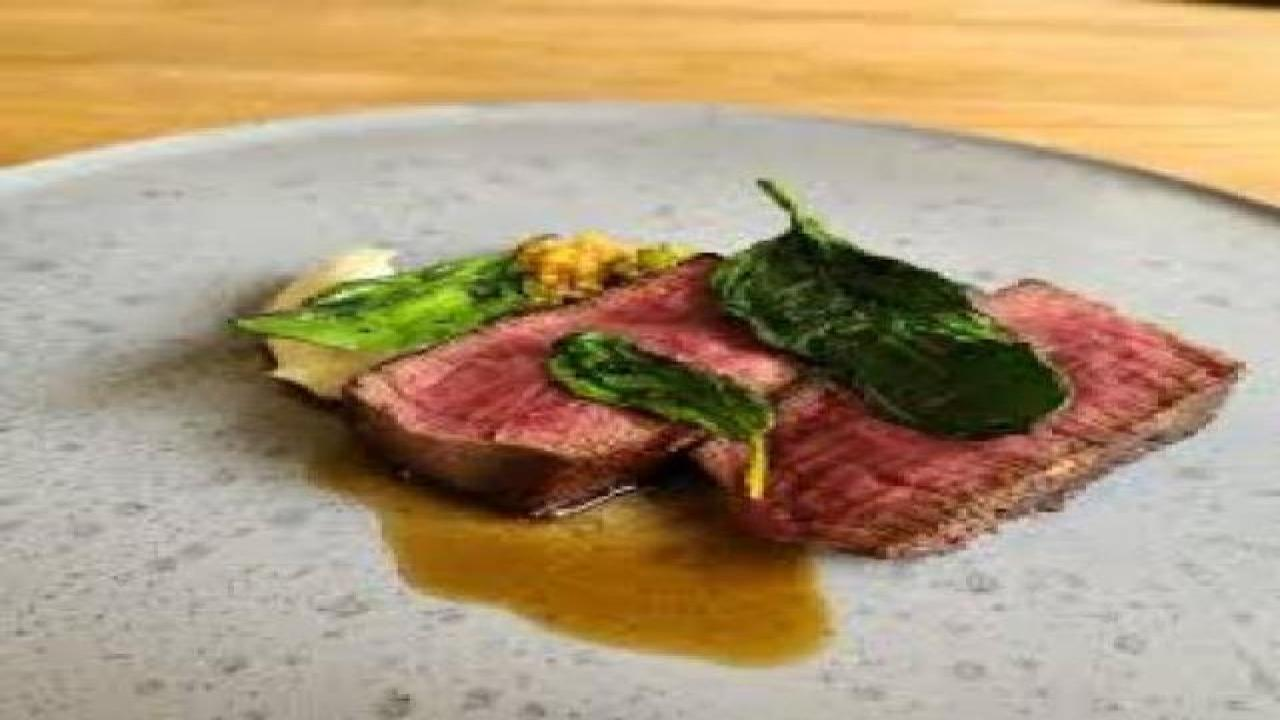raw: (724, 281, 1243, 558), (361, 228, 800, 538)
